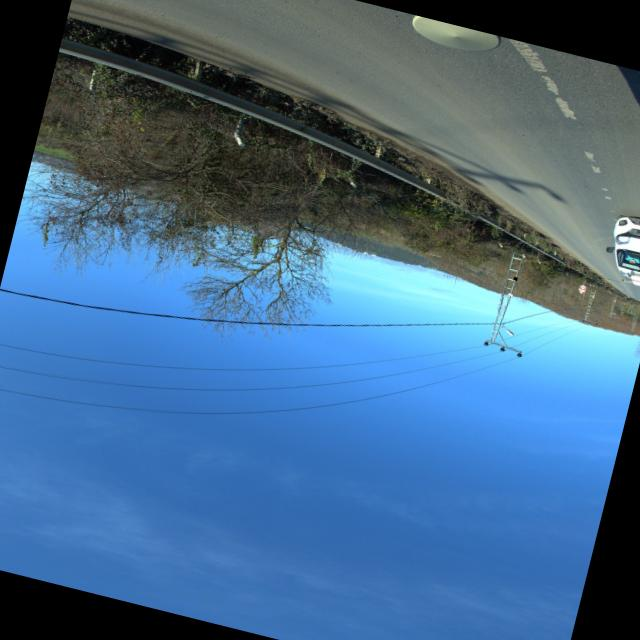Utility Pole Information Plate: (512, 275, 516, 279)
